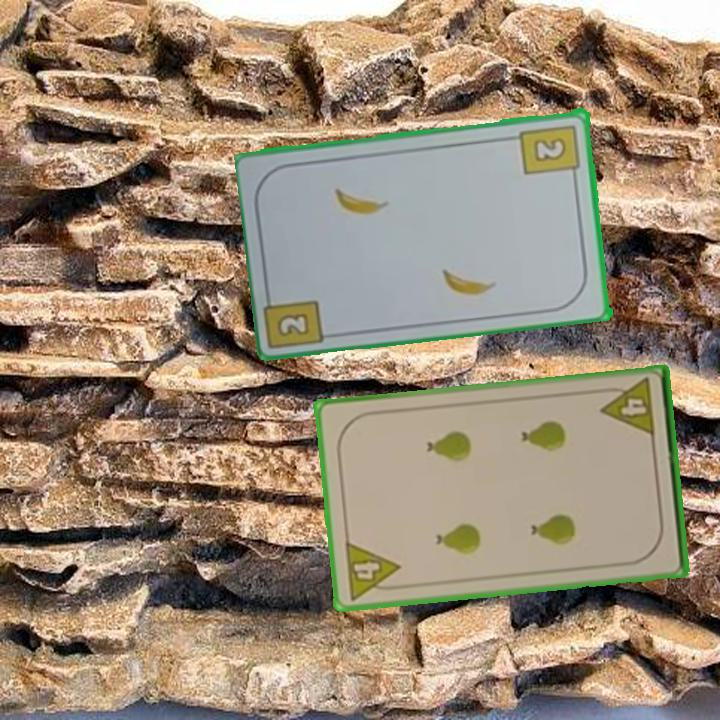2b: (518, 120, 583, 182), (274, 309, 313, 340)
4p: (341, 538, 405, 603), (596, 375, 658, 440)
